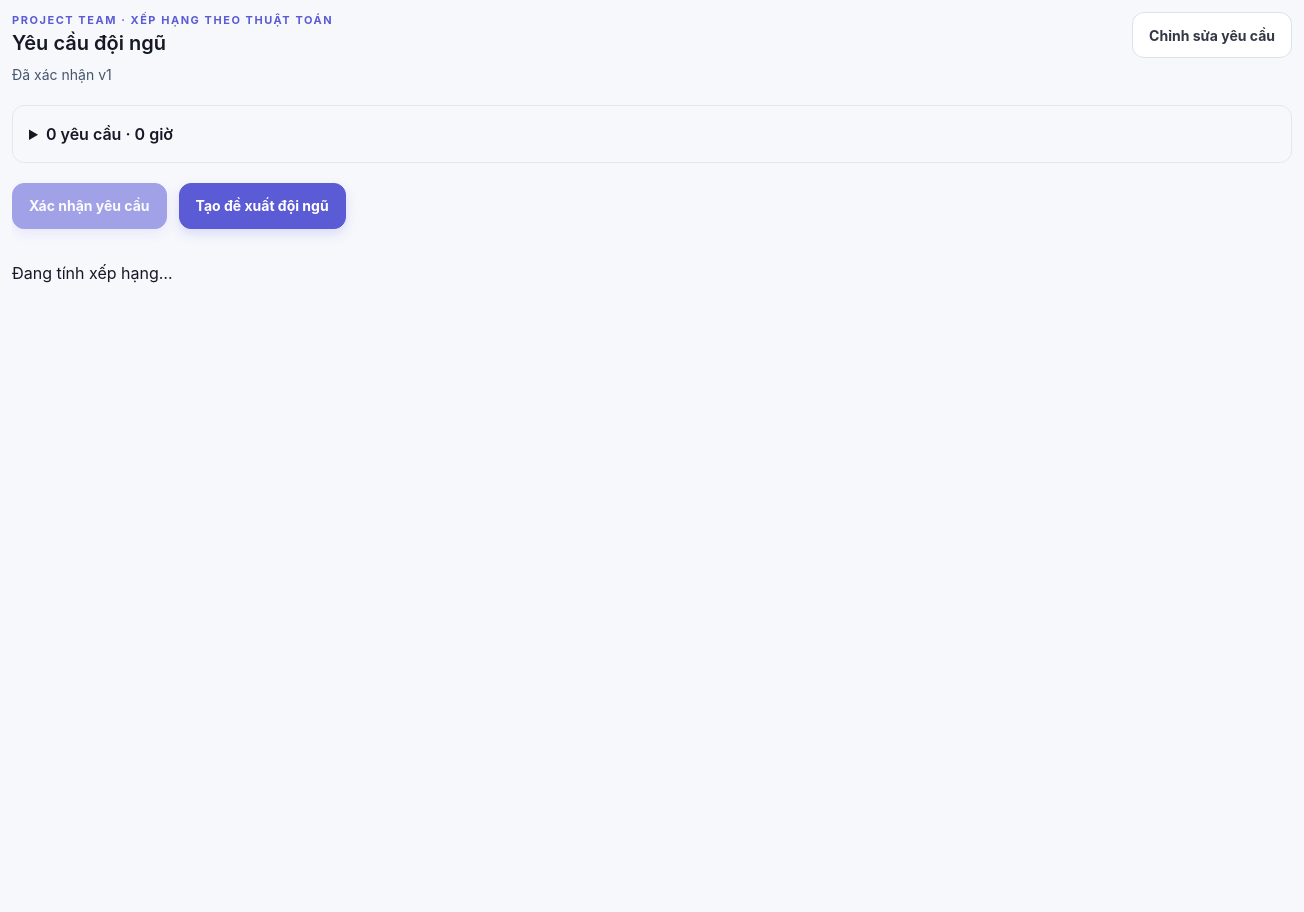
Test: TeamPanel › keeps a successful approval visible when feedback recording fails
Click the button "Tạo đề xuất đội ngũ".
click(262, 206)  # box x1=179 y1=182 x2=346 y2=228
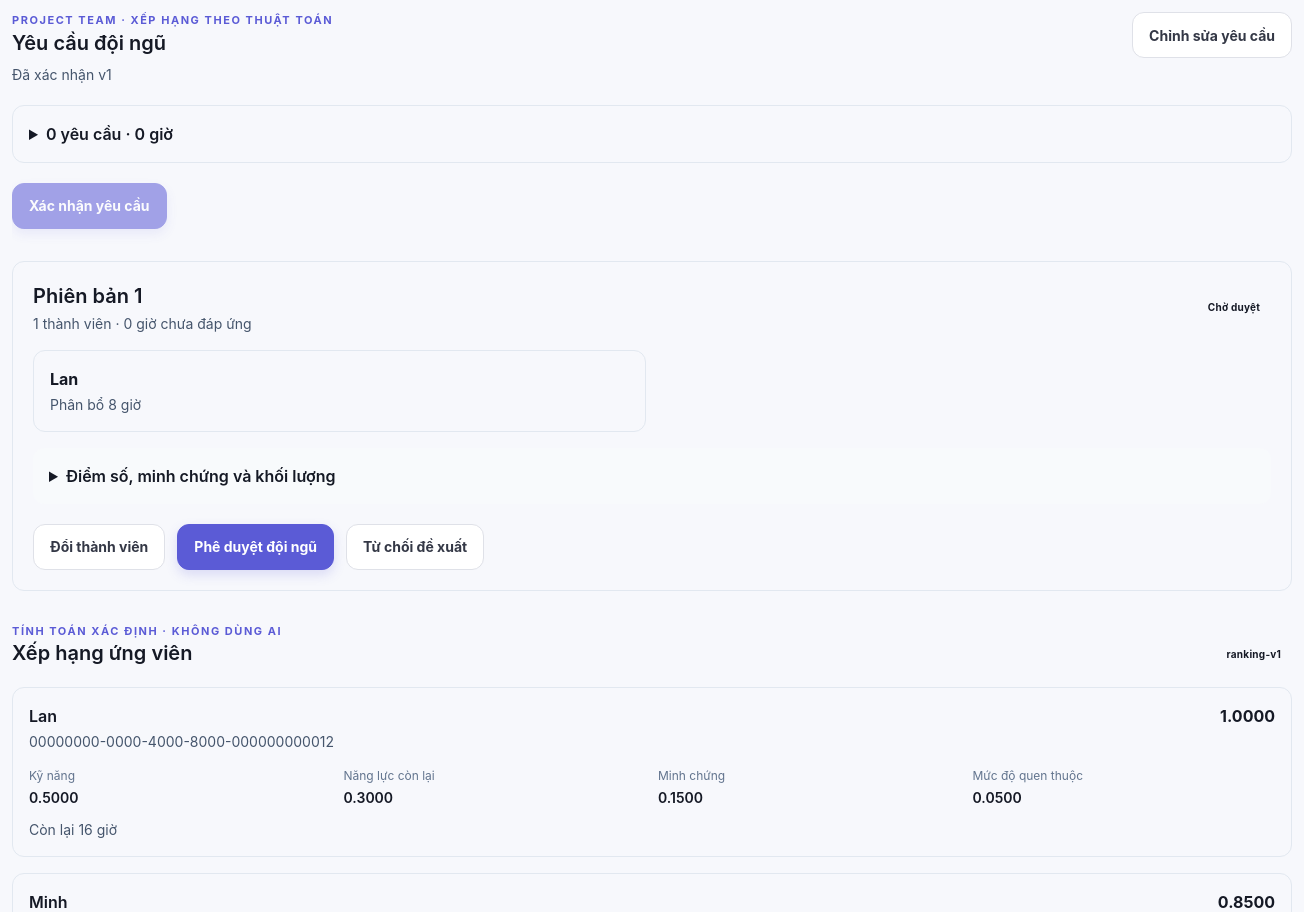
Click the button "Phê duyệt đội ngũ".
click(256, 546)  # box x1=177 y1=524 x2=334 y2=570
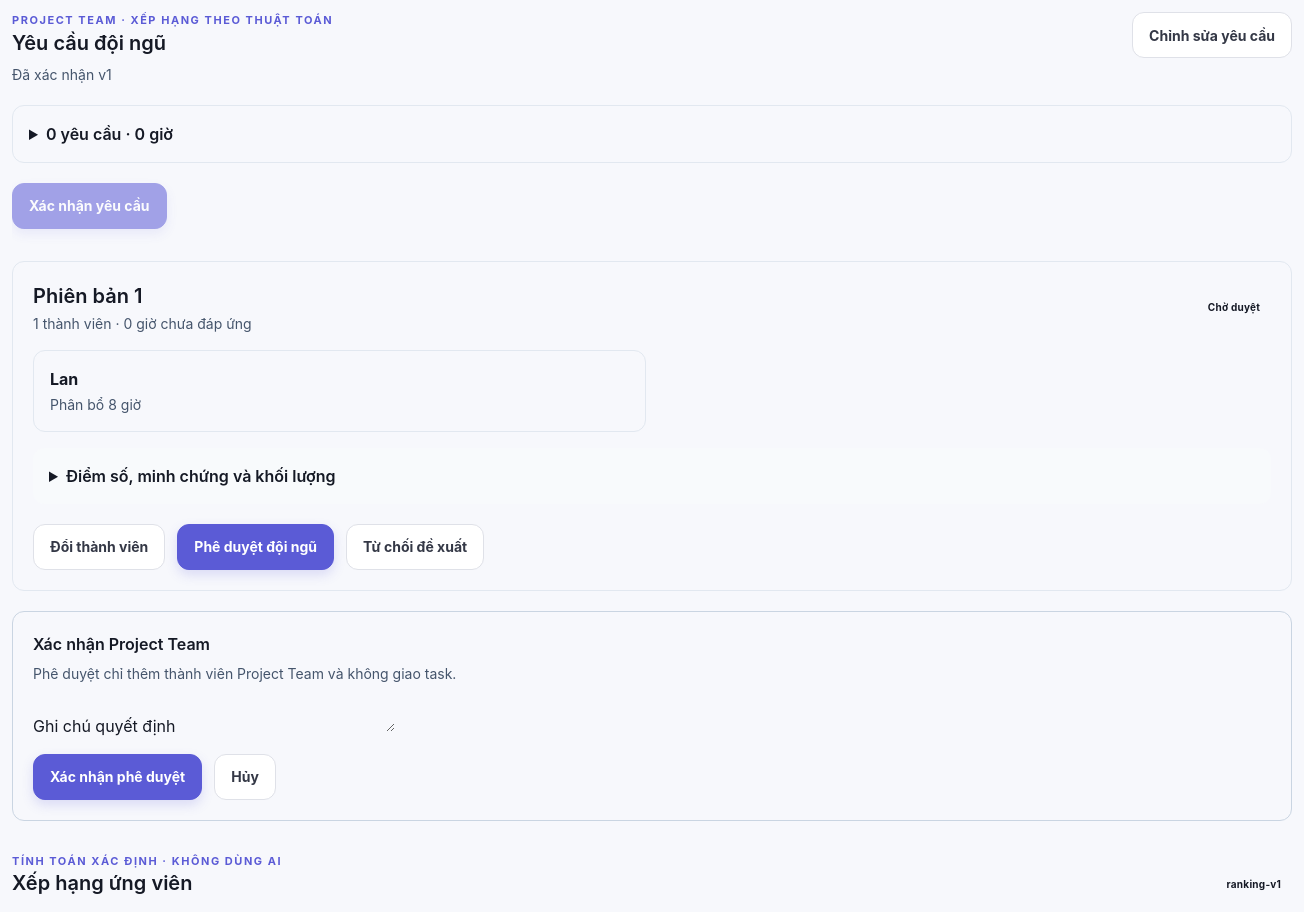
Click the button "Xác nhận phê duyệt".
click(118, 777)  # box x1=33 y1=754 x2=202 y2=800
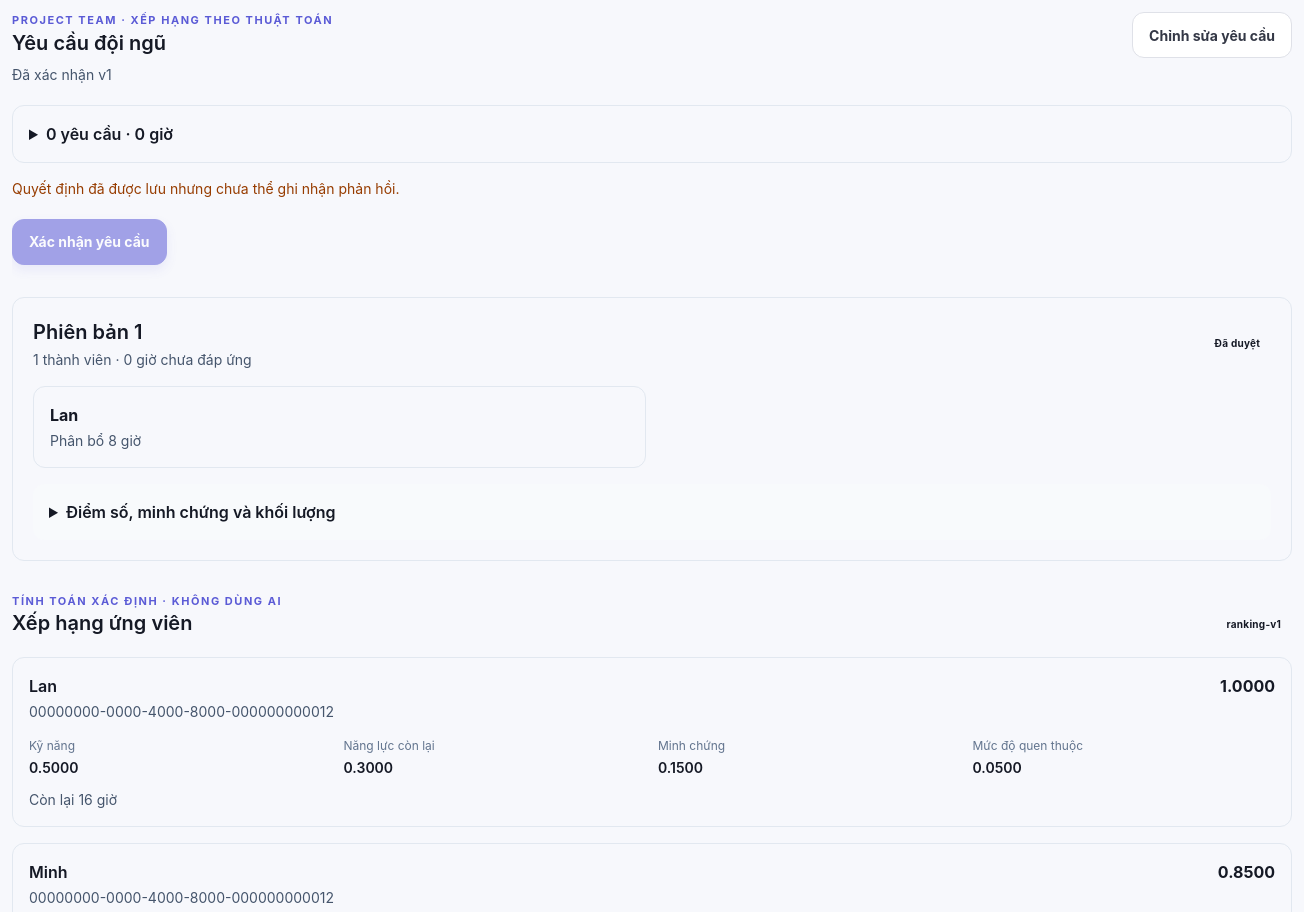
Check: the text "Đã duyệt" is shown, box x1=1214 y1=337 x2=1260 y2=349
Check: the text "Quyết định đã được lưu nhưng chưa thể ghi nhận phản hồi." is shown, box x1=12 y1=180 x2=400 y2=196
